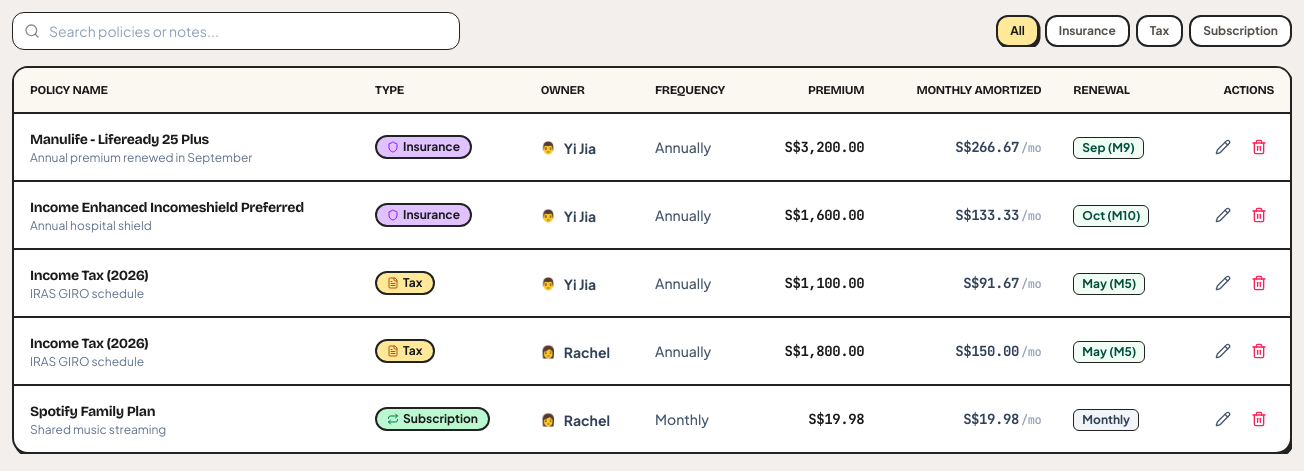
Test case: PolicyTable Component › displays empty state when filter has no matches
Type "Nonexistent Policy 999" into the field with placeholder "Search policies or notes..." at (236, 31), box [12,12,460,50]
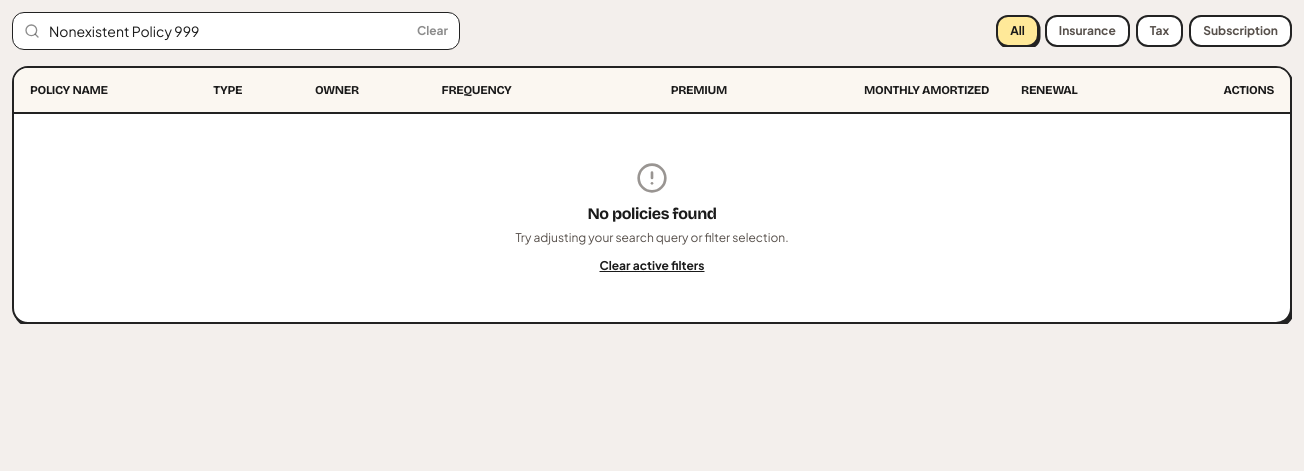
Check: the text "No policies found" is shown, box [587,204,717,223]
